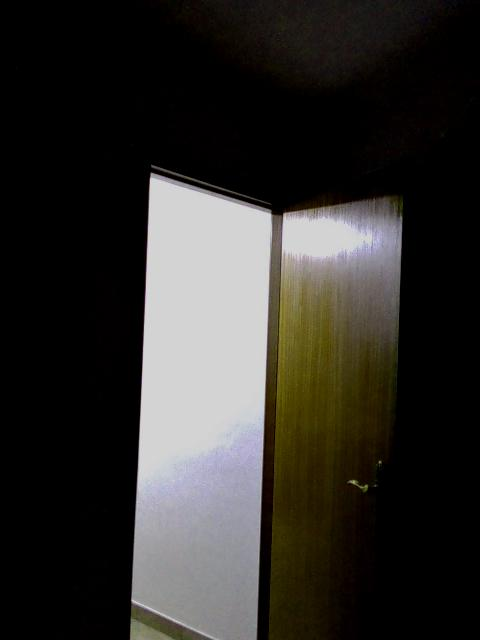open_door: (119, 142, 295, 638)
